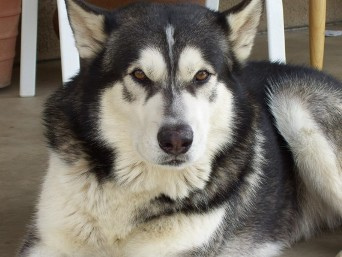dog: (18, 0, 341, 256)
